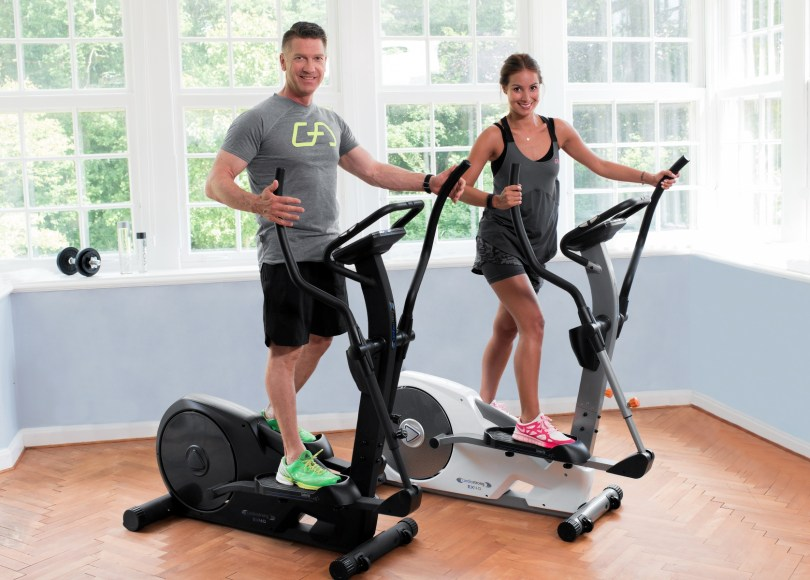gym_bike: (113, 174, 436, 572), (376, 164, 674, 545)
